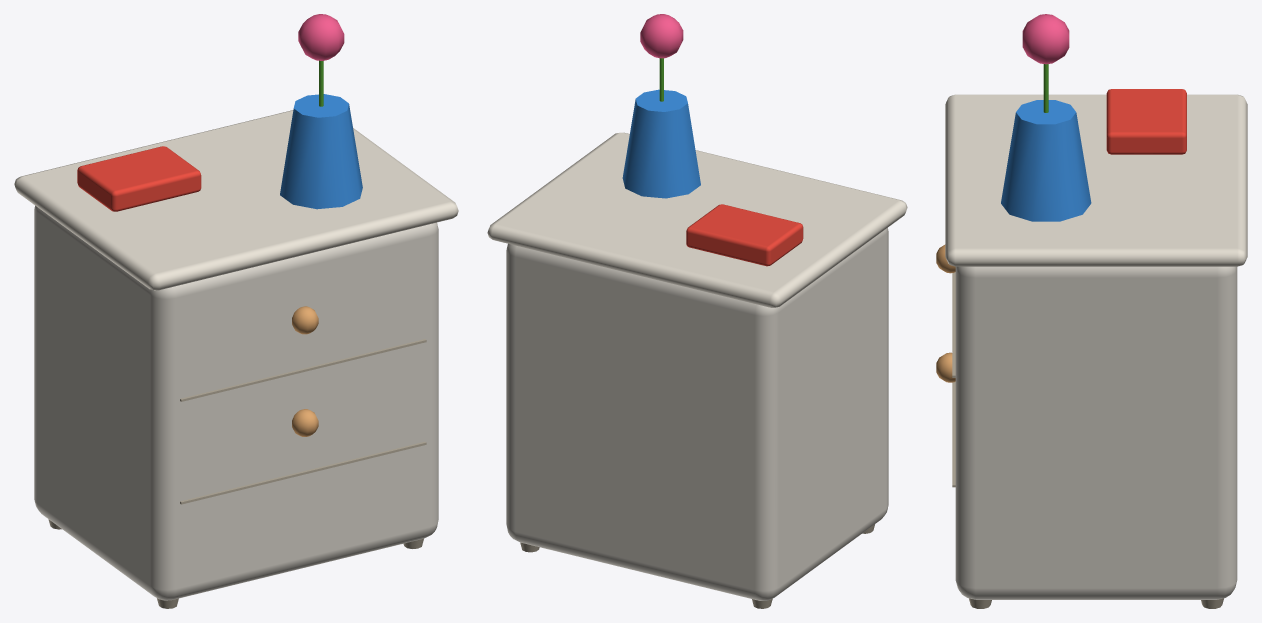
Rendered from table-nightstand.glb.
3 renders of one model, left to right at view 1: azimuth 30°, elevation 25°; view 2: azimuth 150°, elevation 25°; view 3: azimuth 270°, elevation 25°, orthographic. The views are drawn at different scales.
Size of the model in its own units: 0.76 by 1.22 by 0.6178.
